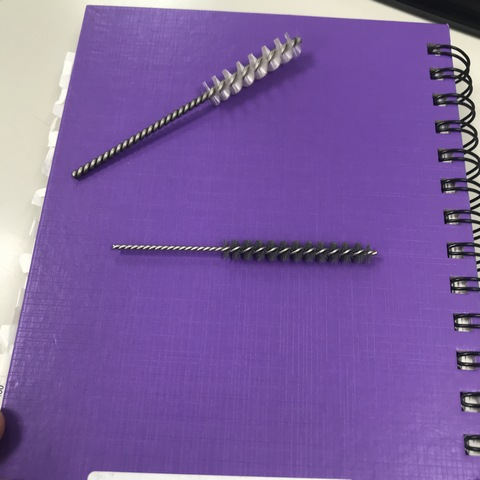Twist Brush-A: (106, 236, 382, 267)
Twist Brush-B: (69, 32, 303, 178)
